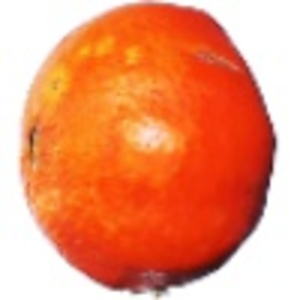tangerina: (16, 1, 278, 300)
